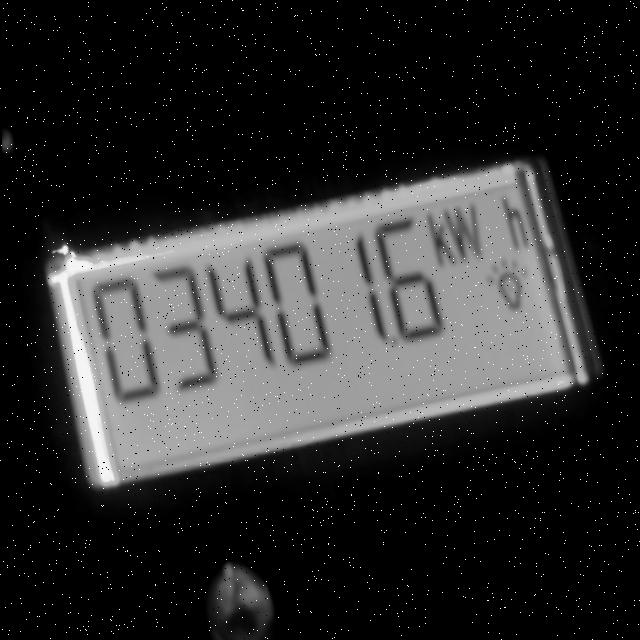.: (384, 326, 405, 359)
0: (252, 225, 343, 378), (83, 266, 169, 412)
1: (327, 228, 395, 360)
3: (140, 251, 228, 399)
4: (198, 244, 286, 380)
6: (366, 206, 453, 352)
